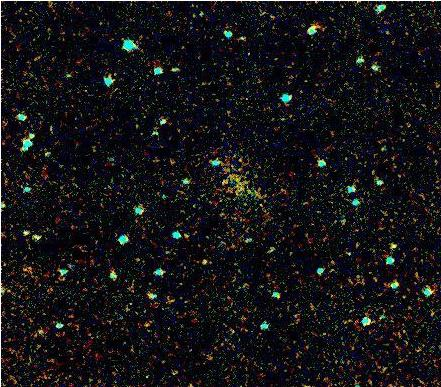star: (209, 167, 239, 197)
